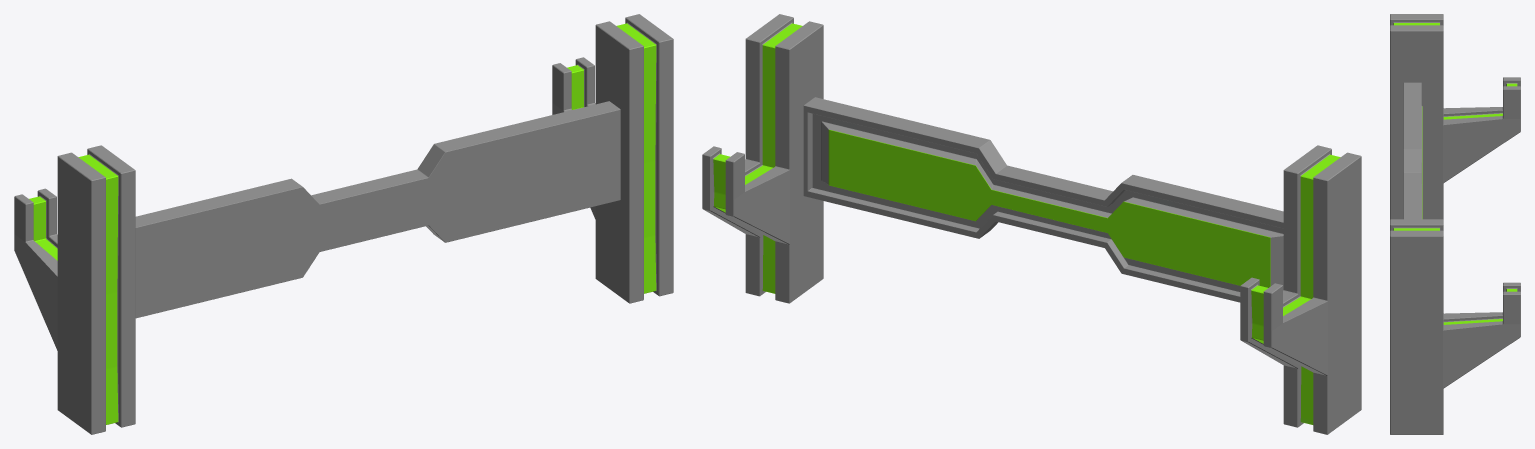
File: SM_Shipment_01.fbx
3 renders of one model, left to right at view 1: azimuth 30°, elevation 25°; view 2: azimuth 150°, elevation 25°; view 3: azimuth 270°, elevation 25°, orthographic. The views are drawn at different scales.
Parts seen in each view (by area): view 1: SM_Shipment_01; view 2: SM_Shipment_01; view 3: SM_Shipment_01.
Boxes of the visible parts, box(x1,y1,x2,y2) form: SM_Shipment_01: box(14, 14, 673, 434); SM_Shipment_01: box(702, 14, 1361, 434); SM_Shipment_01: box(1390, 14, 1520, 434).
Size of the model in its own units: 86.04 by 21.38 by 35.93.
